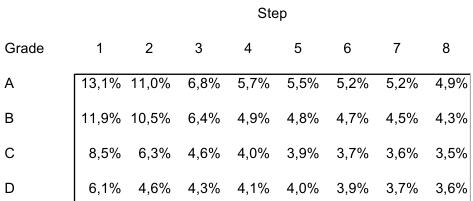table: (3, 4, 467, 195)
table column: (61, 4, 124, 195), (3, 4, 61, 195), (124, 4, 178, 195), (227, 4, 277, 195), (326, 4, 376, 195), (376, 4, 426, 195), (178, 4, 227, 195), (277, 4, 326, 195), (426, 4, 467, 195)
table column header: (3, 4, 467, 64)
table row: (3, 29, 467, 64), (3, 64, 467, 99), (3, 99, 467, 134), (3, 134, 467, 169), (3, 169, 467, 195), (3, 4, 467, 29)
table spanning cell: (61, 4, 467, 29), (3, 4, 61, 64)
